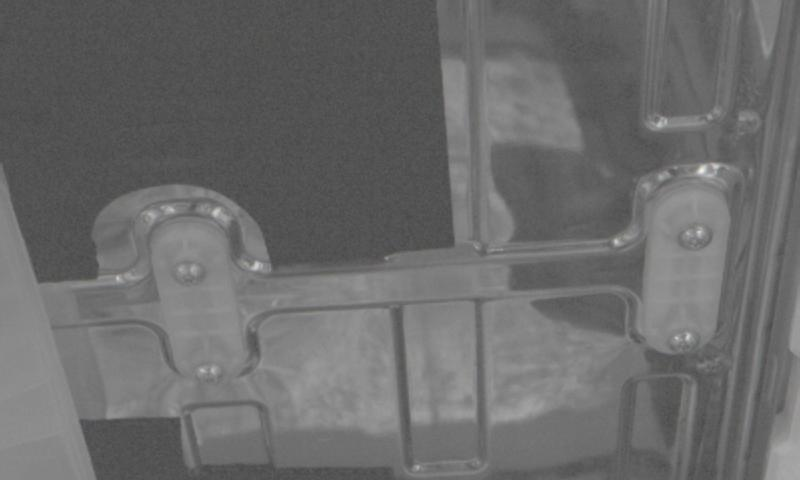vida-ok: (167, 248, 213, 293), (676, 216, 723, 259), (660, 323, 706, 362), (186, 354, 231, 393)
